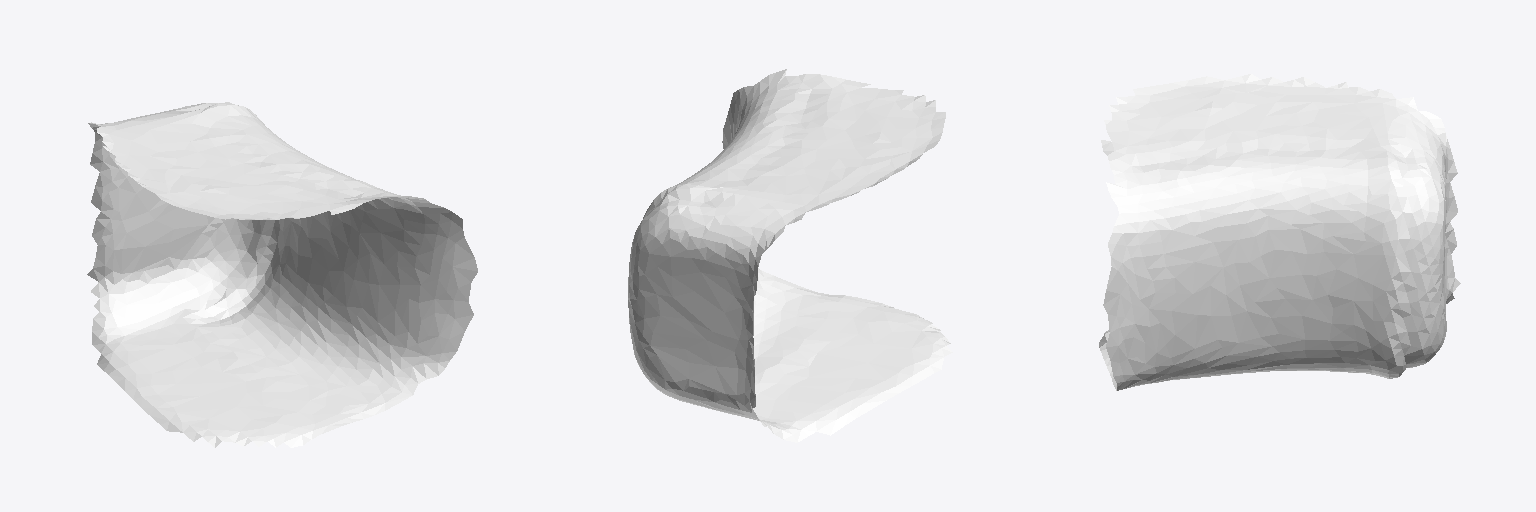
Rendered from trigger.obj.
The picture shows the model from 3 angles: view 1: azimuth 30°, elevation 25°; view 2: azimuth 150°, elevation 25°; view 3: azimuth 270°, elevation 25°; orthographic projection.
Parts seen in each view (by area): view 1: trigger_Ryobii_Drill.002; view 2: trigger_Ryobii_Drill.002; view 3: trigger_Ryobii_Drill.002.
Part boxes in pixels (bbox=[...]): trigger_Ryobii_Drill.002: bbox=[87, 102, 477, 447]; trigger_Ryobii_Drill.002: bbox=[628, 69, 952, 442]; trigger_Ryobii_Drill.002: bbox=[1099, 74, 1460, 390].
Bounding box in the file's own units: 0.022 × 0.0184 × 0.0258.